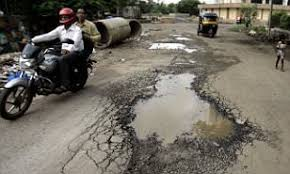potholes: (113, 48, 266, 172), (132, 23, 198, 82)
